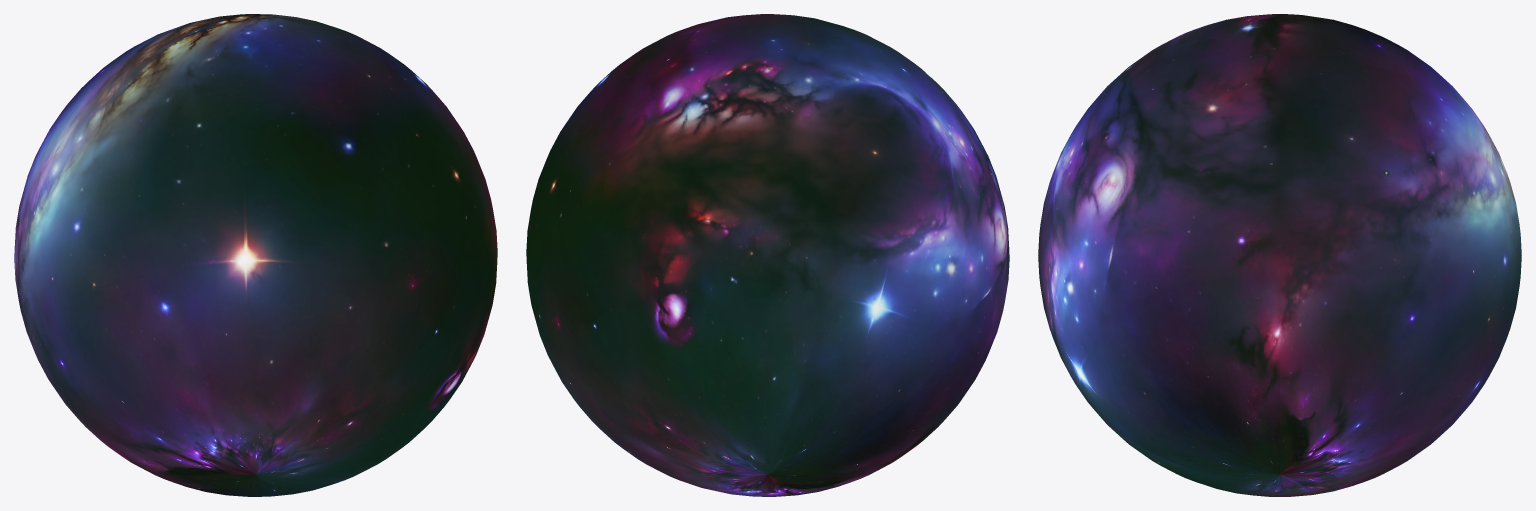
Rendered from nebula3.glb.
3 views of the same model, side by side, from view 1: azimuth 30°, elevation 25°; view 2: azimuth 150°, elevation 25°; view 3: azimuth 270°, elevation 25° (orthographic).
Parts seen in each view (by area): view 1: Sphere__0; view 2: Sphere__0; view 3: Sphere__0.
Boxes of the visible parts, <box> form: Sphere__0: <box>14,14,497,496</box>; Sphere__0: <box>526,14,1009,496</box>; Sphere__0: <box>1038,14,1521,496</box>.
Size of the model in its own units: 1000 by 1000 by 1000.
Materials: 1 (1 with a texture image).
